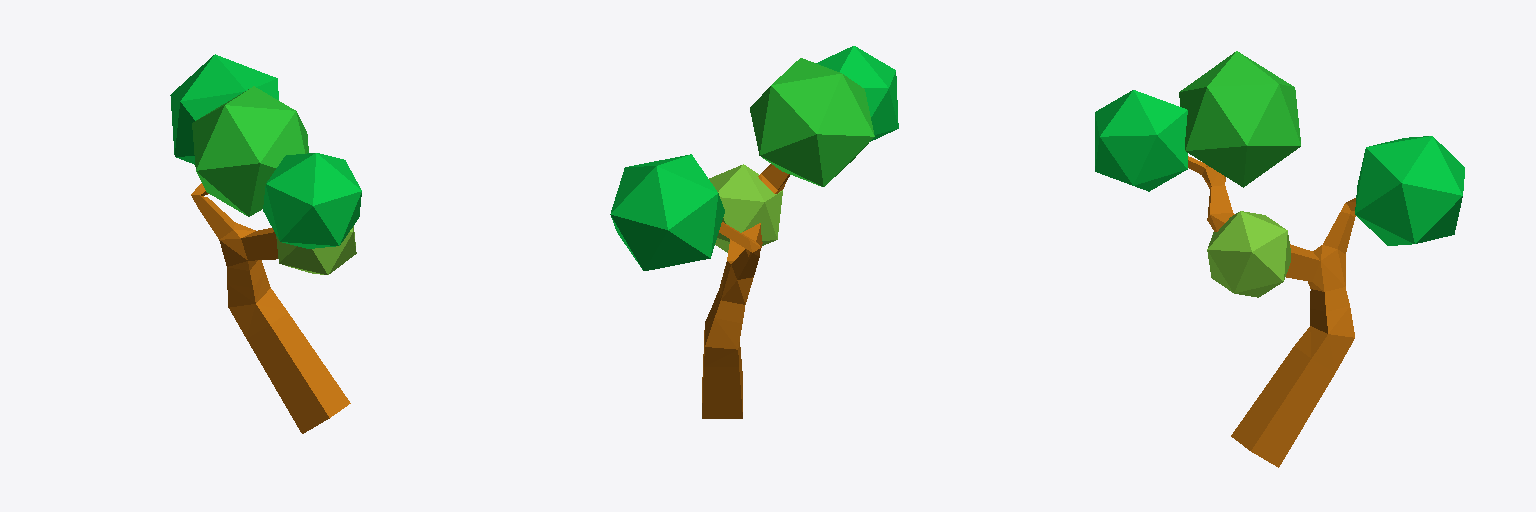
Rendered from tree02.obj.
3 views of the same model, side by side, from view 1: azimuth 30°, elevation 25°; view 2: azimuth 150°, elevation 25°; view 3: azimuth 270°, elevation 25° (orthographic).
Parts seen in each view (by area): view 1: Cube_Cube.002, Icosphere.002_Icosphere.006, Icosphere.003_Icosphere.007, Icosphere_Icosphere.004, Icosphere.001_Icosphere.005; view 2: Icosphere.002_Icosphere.006, Icosphere_Icosphere.004, Cube_Cube.002, Icosphere.001_Icosphere.005, Icosphere.003_Icosphere.007; view 3: Cube_Cube.002, Icosphere.002_Icosphere.006, Icosphere_Icosphere.004, Icosphere.003_Icosphere.007, Icosphere.001_Icosphere.005.
Boxes of the visible parts, x1=… form: Cube_Cube.002: x1=191, y1=183, x2=350, y2=433; Icosphere.002_Icosphere.006: x1=192, y1=86, x2=308, y2=216; Icosphere.003_Icosphere.007: x1=263, y1=153, x2=361, y2=248; Icosphere_Icosphere.004: x1=170, y1=54, x2=278, y2=164; Icosphere.001_Icosphere.005: x1=276, y1=226, x2=356, y2=274; Icosphere.002_Icosphere.006: x1=750, y1=58, x2=874, y2=186; Icosphere_Icosphere.004: x1=610, y1=154, x2=724, y2=270; Cube_Cube.002: x1=702, y1=164, x2=789, y2=418; Icosphere.001_Icosphere.005: x1=709, y1=164, x2=782, y2=252; Icosphere.003_Icosphere.007: x1=816, y1=46, x2=898, y2=141; Cube_Cube.002: x1=1188, y1=156, x2=1355, y2=467; Icosphere.002_Icosphere.006: x1=1179, y1=51, x2=1300, y2=187; Icosphere_Icosphere.004: x1=1355, y1=136, x2=1464, y2=245; Icosphere.003_Icosphere.007: x1=1095, y1=90, x2=1187, y2=191; Icosphere.001_Icosphere.005: x1=1207, y1=211, x2=1290, y2=297.
Size of the model in its own units: 2.88 by 5.92 by 5.54.